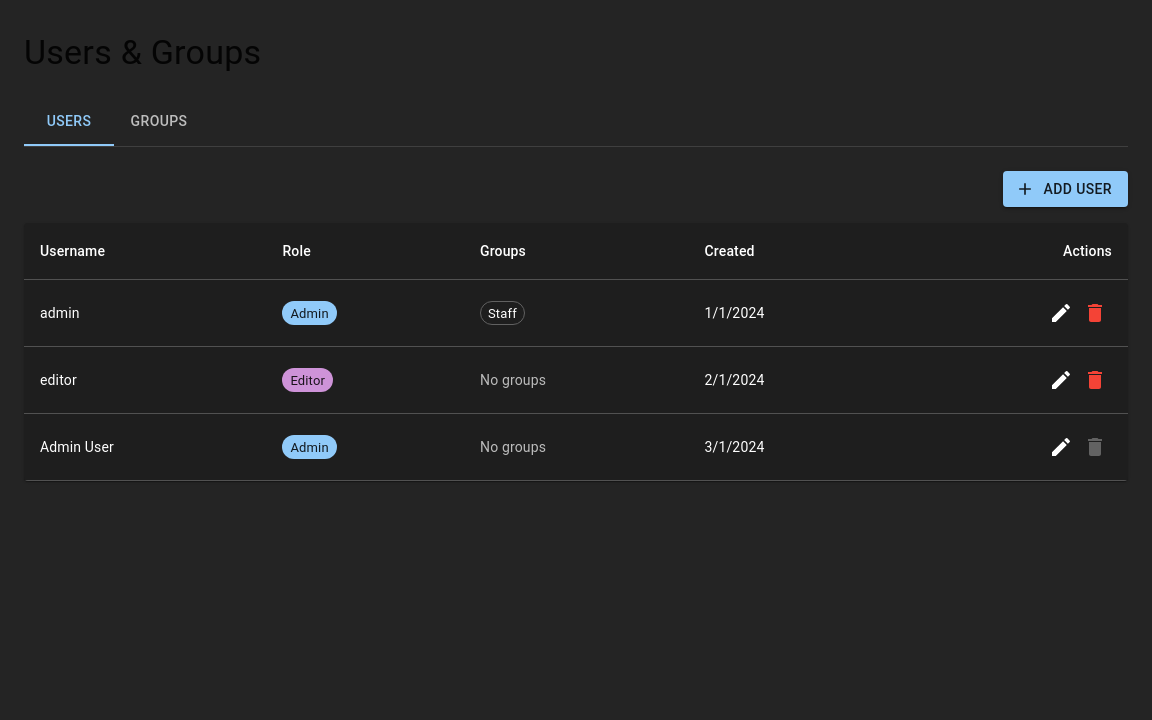
Test case: UsersPage › group operations › opens dialog for editing group
What coordinates should you click on to do the following:
click the tab "Groups"
I would click on:
 (159, 122)
Its box is [114, 98, 204, 146].
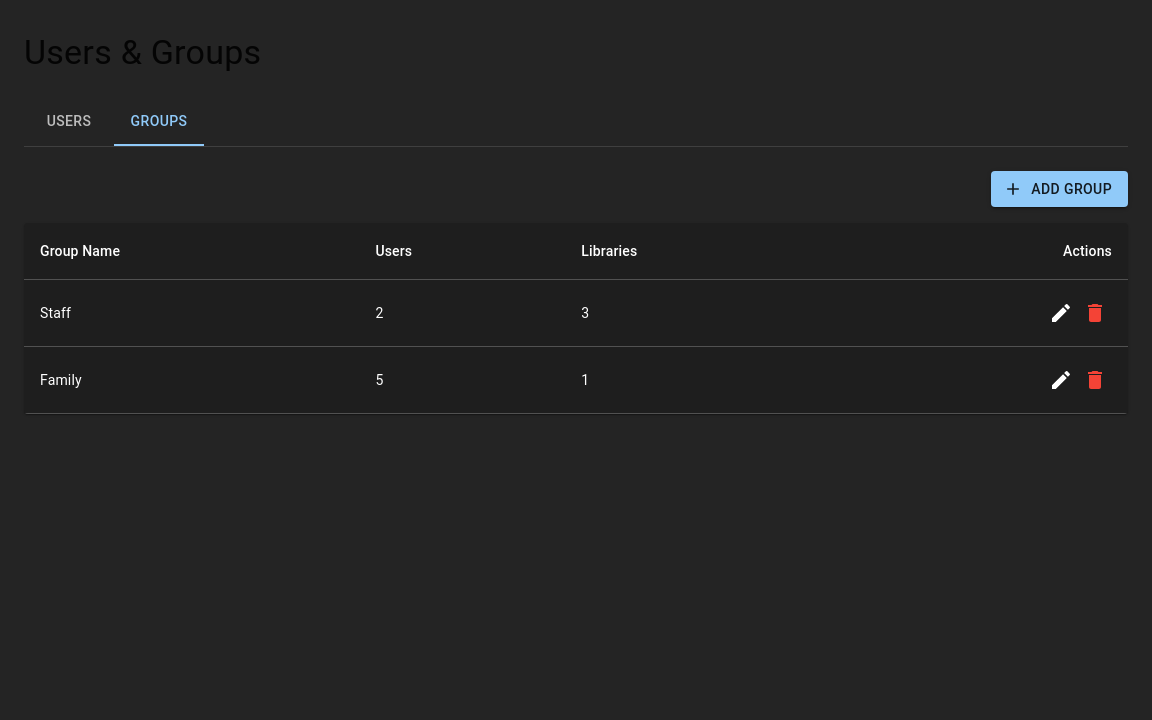
Click first edit button in groups tab
What coordinates should you click on to do the following:
click the button with test id "EditIcon"
I would click on:
 (1061, 314)
Its box is [1044, 296, 1078, 330].
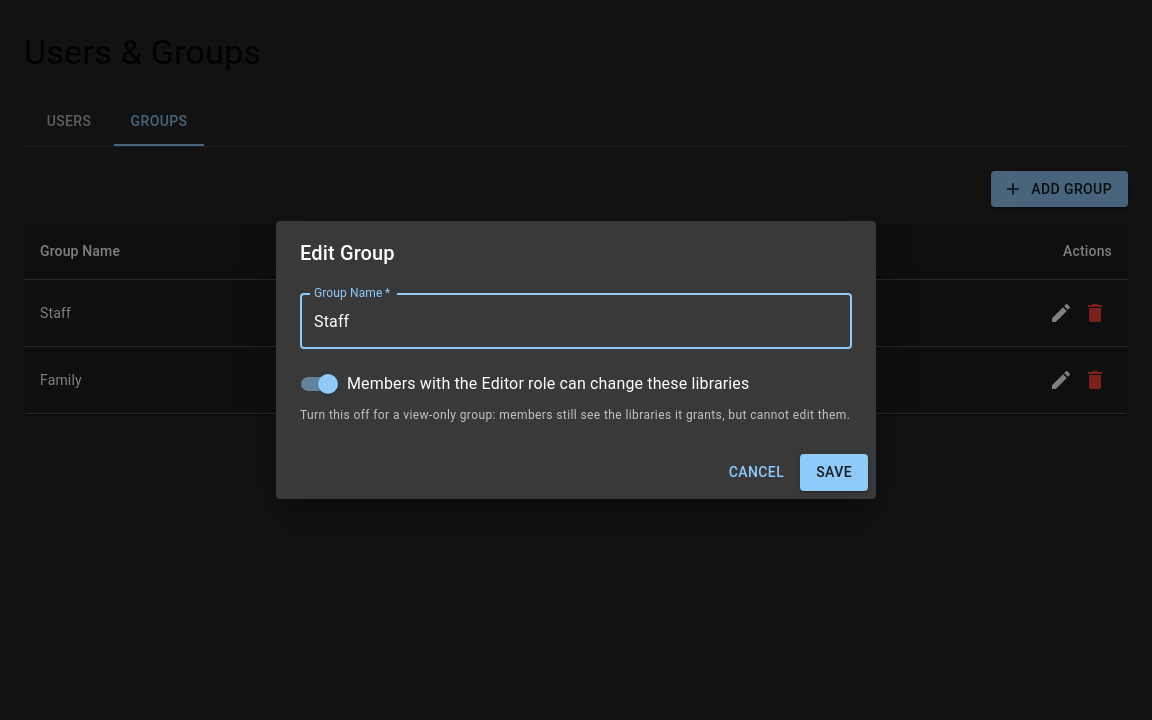
Expected: the dialog is shown, [276, 221, 876, 499]
Expected: the field labelled "Group Name *" holds "Staff", [300, 293, 852, 349]
